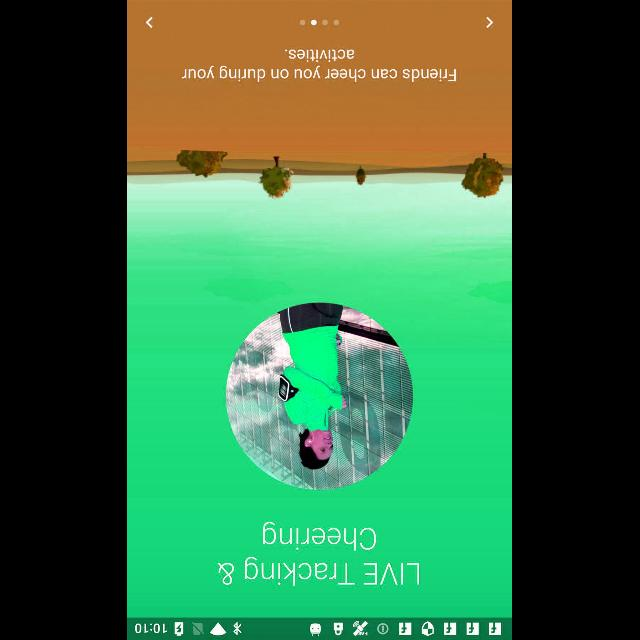backgroundimage: (128, 0, 512, 618)
icon: (486, 16, 494, 28), (146, 16, 154, 28)
image: (226, 302, 414, 490)
pageindicator: (300, 18, 340, 26)
text: (218, 520, 420, 586), (182, 49, 456, 82)
uppertaskbar: (128, 617, 512, 639)
